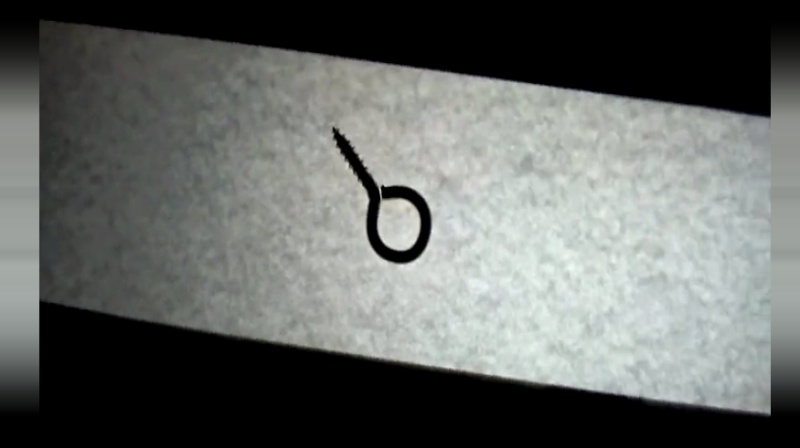O001: (329, 119, 435, 267)
